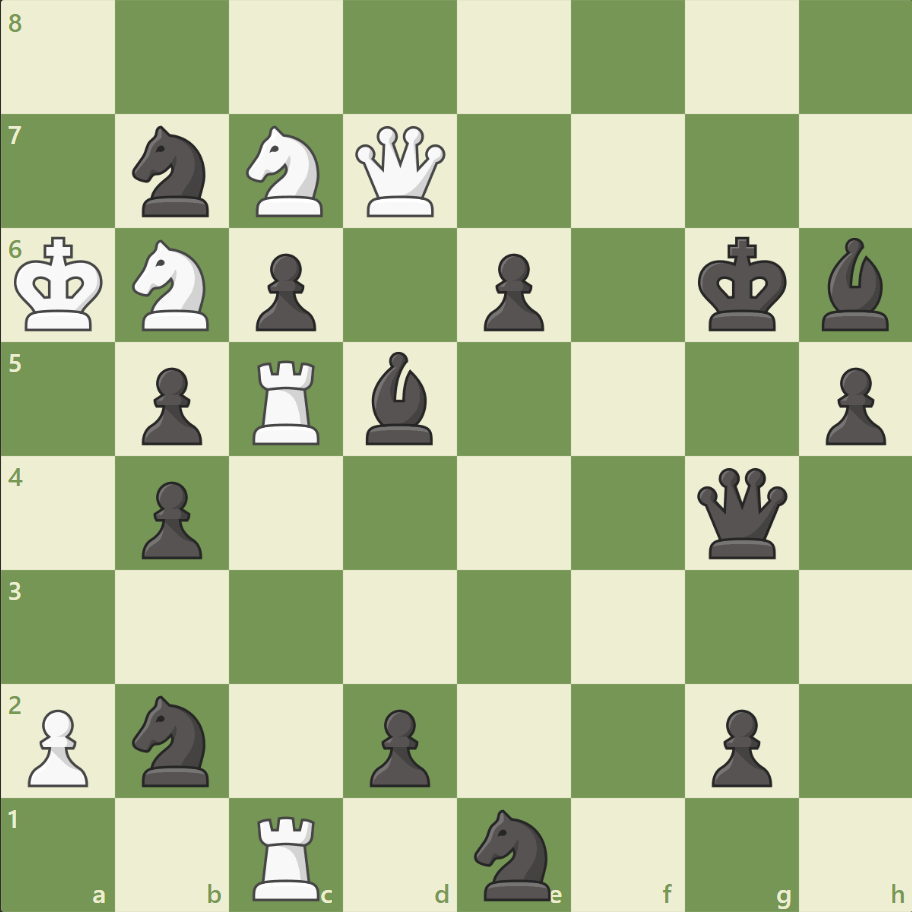K: (11, 231, 111, 339)
N: (124, 234, 222, 337), (238, 121, 335, 223)
P: (20, 700, 95, 791)
Q: (351, 122, 450, 222)
R: (246, 806, 329, 904), (246, 352, 329, 449)
b: (812, 233, 896, 336), (358, 347, 442, 449)
k: (692, 231, 792, 339)
n: (124, 688, 222, 791), (124, 121, 222, 223), (465, 802, 562, 904)
p: (247, 246, 322, 337), (474, 246, 549, 337), (133, 359, 208, 450), (133, 473, 208, 564), (701, 700, 776, 791), (815, 359, 889, 450), (361, 700, 435, 791)
q: (691, 463, 790, 562)
